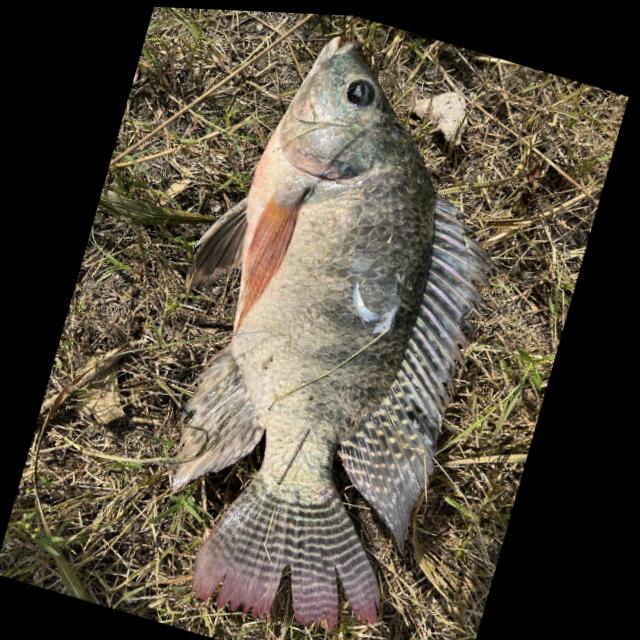Tilapia: (99, 5, 548, 640)
